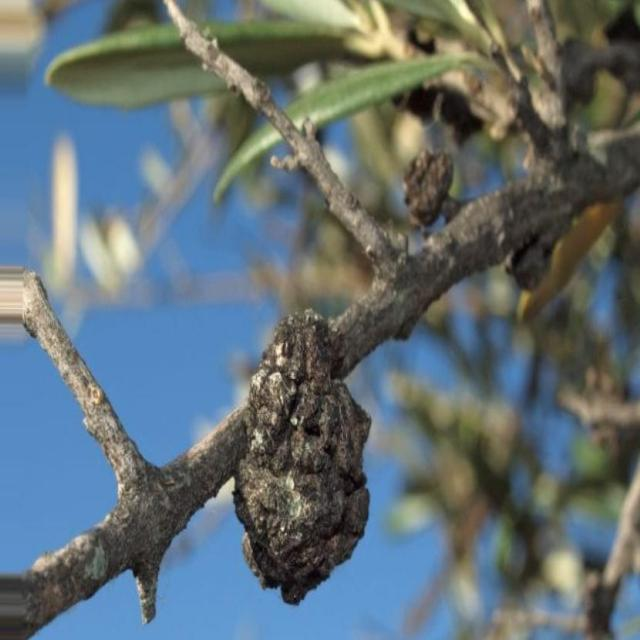Tuberculosis: (234, 310, 370, 603), (404, 148, 453, 227)
